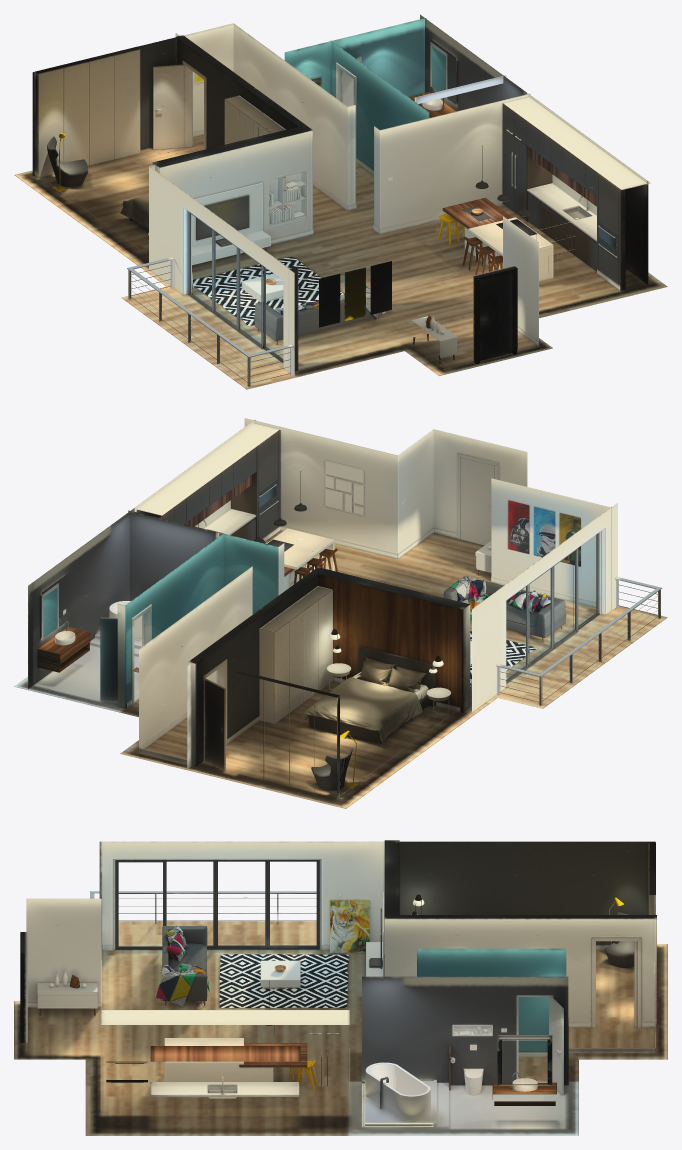
File: new_appartment-v1.glb
3 views of the same model, one above another, from view 1: azimuth 30°, elevation 25°; view 2: azimuth 150°, elevation 25°; view 3: azimuth 270°, elevation 25° (orthographic). The views are drawn at different scales.
Visible parts, largest first — view 1: SM_Floor_surfaceShader1_0, SM_HallFrames_miniCounter_SkirtingBoard_surfaceShader23_0, SM_wallKitchen_q1_surfaceShader21_0, SM_KitchenPanel_surfaceShader4_0, SM_WallLiving_q5_SM_WallLiving_q3:VRayMtl37SG1_0, SM_RoomCabs_surfaceShader16_0, SM_Doors_surfaceShader18_0, SM_PaintingsWindow_Rails_surfaceShader11_0, SM_WallLiving_Q2_3_surfaceShader25_0, SM_KitchenBath_WALL_surfaceShader36_0, SM_Tv_Rack_cTable_Bowl1_surfaceShader27_0, SM_WallLiving_Q3_4_surfaceShader28_0 (+11 smaller); view 2: SM_Floor_surfaceShader1_0, SM_WallLiving_Q3_4_surfaceShader28_0, SM_WallLiving_q5_SM_WallLiving_q3:VRayMtl37SG1_0, SM_wallKitchen_q1_surfaceShader21_0, SM_HallFrames_miniCounter_SkirtingBoard_surfaceShader23_0, SM_KitchenPanel_surfaceShader4_0, SM_RoomCabs_surfaceShader16_0, SM_KitchenBath_WALL_surfaceShader36_0, SM_Doors_surfaceShader18_0, SM_PaintingsWindow_Rails_surfaceShader11_0, SM_WallLiving_Q2_3_surfaceShader25_0, SM_Blanket_surfaceShader12_0 (+10 smaller); view 3: SM_Floor_surfaceShader1_0, SM_Room_WALL_surfaceShader37_0, SM_wallKitchen_q1_surfaceShader21_0, SM_WallLiving_q5_SM_WallLiving_q3:VRayMtl37SG1_0, SM_WallLiving_Q2_3_surfaceShader25_0, SM_KitchenPanel_surfaceShader4_0, SM_HallFrames_miniCounter_SkirtingBoard_surfaceShader23_0, SM_PaintingsWindow_Rails_surfaceShader11_0, SM_WallLiving_Q3_4_surfaceShader28_0, SM_Rug_surfaceShader33_0, SM_ToiletTub_surfaceShader6_0, SM_Doors_surfaceShader18_0 (+9 smaller).
Boxes of the visible parts, <box> form: SM_Floor_surfaceShader1_0: <box>14,134,667,389</box>; SM_HallFrames_miniCounter_SkirtingBoard_surfaceShader23_0: <box>32,18,620,363</box>; SM_wallKitchen_q1_surfaceShader21_0: <box>330,40,530,229</box>; SM_KitchenPanel_surfaceShader4_0: <box>502,96,650,290</box>; SM_WallLiving_q5_SM_WallLiving_q3:VRayMtl37SG1_0: <box>152,35,312,239</box>; SM_RoomCabs_surfaceShader16_0: <box>34,46,285,177</box>; SM_Doors_surfaceShader18_0: <box>153,56,517,363</box>; SM_PaintingsWindow_Rails_surfaceShader11_0: <box>127,210,391,386</box>; SM_WallLiving_Q2_3_surfaceShader25_0: <box>149,166,298,371</box>; SM_KitchenBath_WALL_surfaceShader36_0: <box>420,14,648,284</box>; SM_Tv_Rack_cTable_Bowl1_surfaceShader27_0: <box>192,182,298,302</box>; SM_WallLiving_Q3_4_surfaceShader28_0: <box>288,216,538,376</box>; SM_Floor_surfaceShader1_0: <box>14,530,667,808</box>; SM_WallLiving_Q3_4_surfaceShader28_0: <box>244,418,617,610</box>; SM_WallLiving_q5_SM_WallLiving_q3:VRayMtl37SG1_0: <box>188,567,470,766</box>; SM_wallKitchen_q1_surfaceShader21_0: <box>117,510,284,708</box>; SM_HallFrames_miniCounter_SkirtingBoard_surfaceShader23_0: <box>126,526,596,801</box>; SM_KitchenPanel_surfaceShader4_0: <box>133,423,280,540</box>; SM_RoomCabs_surfaceShader16_0: <box>235,586,339,800</box>; SM_KitchenBath_WALL_surfaceShader36_0: <box>28,420,255,688</box>; SM_Doors_surfaceShader18_0: <box>100,453,498,770</box>; SM_PaintingsWindow_Rails_surfaceShader11_0: <box>470,500,662,705</box>; SM_WallLiving_Q2_3_surfaceShader25_0: <box>472,507,611,712</box>; SM_Blanket_surfaceShader12_0: <box>301,677,423,742</box>; SM_Floor_surfaceShader1_0: <box>14,921,667,1135</box>; SM_Room_WALL_surfaceShader37_0: <box>399,841,655,945</box>; SM_wallKitchen_q1_surfaceShader21_0: <box>362,976,568,1085</box>; SM_WallLiving_q5_SM_WallLiving_q3:VRayMtl37SG1_0: <box>384,840,656,1027</box>; SM_WallLiving_Q2_3_surfaceShader25_0: <box>99,841,384,949</box>; SM_KitchenPanel_surfaceShader4_0: <box>100,1010,349,1096</box>; SM_HallFrames_miniCounter_SkirtingBoard_surfaceShader23_0: <box>26,945,655,1115</box>; SM_PaintingsWindow_Rails_surfaceShader11_0: <box>90,859,369,959</box>; SM_WallLiving_Q3_4_surfaceShader28_0: <box>26,898,101,1002</box>; SM_Rug_surfaceShader33_0: <box>219,954,348,1007</box>; SM_ToiletTub_surfaceShader6_0: <box>361,1044,537,1127</box>; SM_Doors_surfaceShader18_0: <box>20,932,641,1095</box>.
Bounding box in the file's own units: 0.2946 × 0.0719 × 0.3783.
39 materials, 38 textured.
